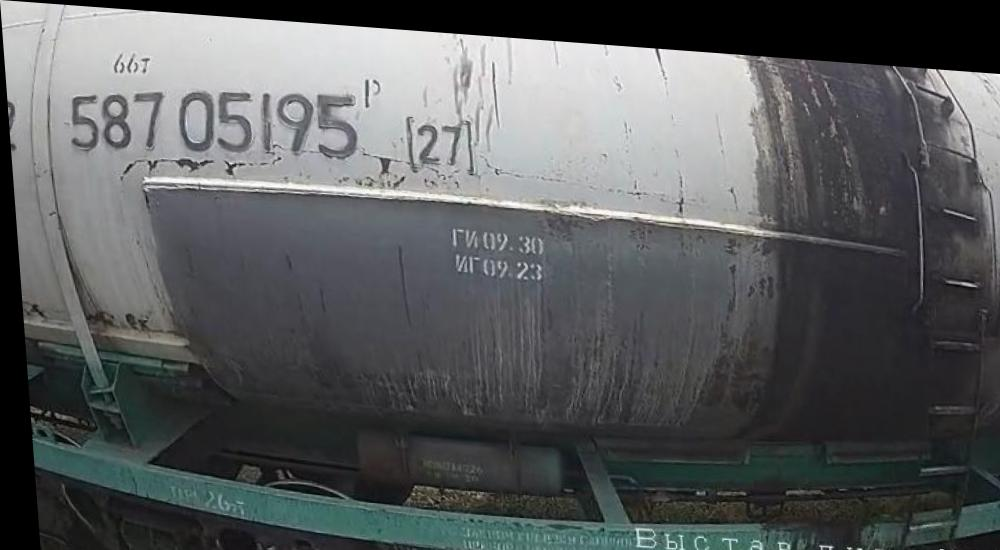Wagon-number: (60, 66, 364, 175)
